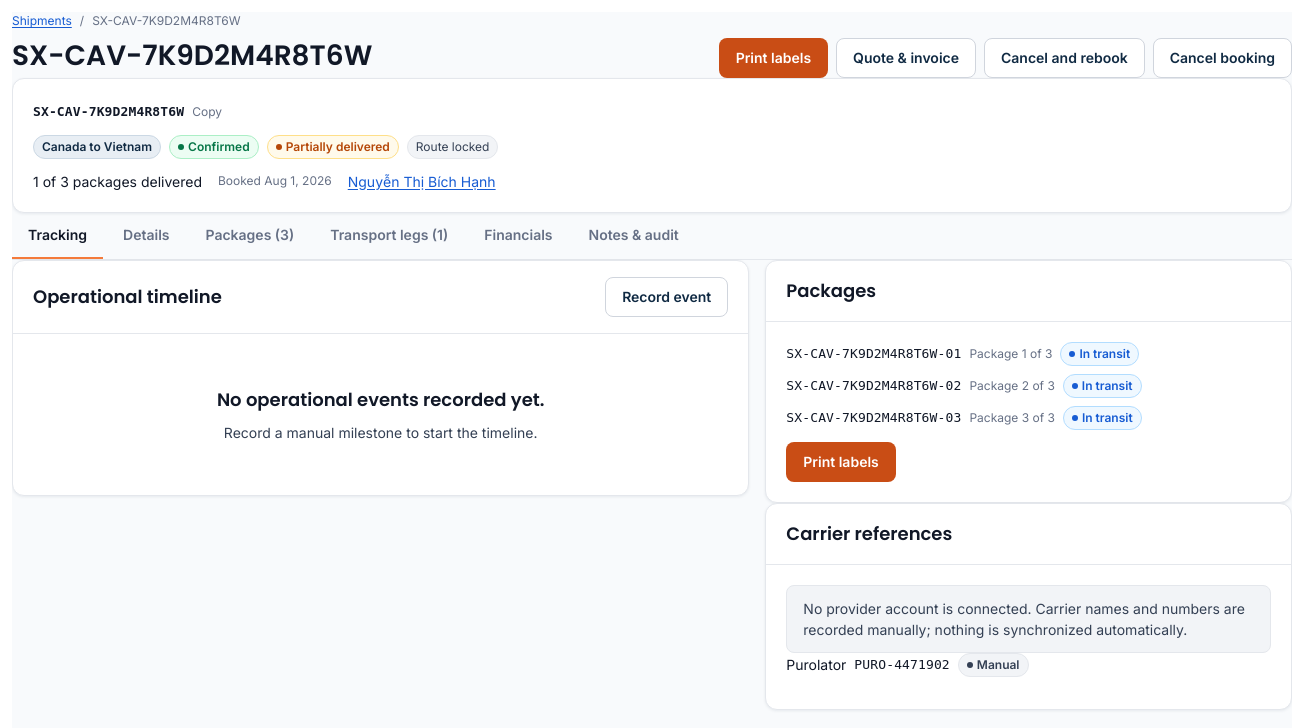
Scenario: ShipmentDetailPage › shows gross profit beside the cost, and Unknown when the API sends null
Click the tab "Financials" at (518, 236), box [468,212,569,258]
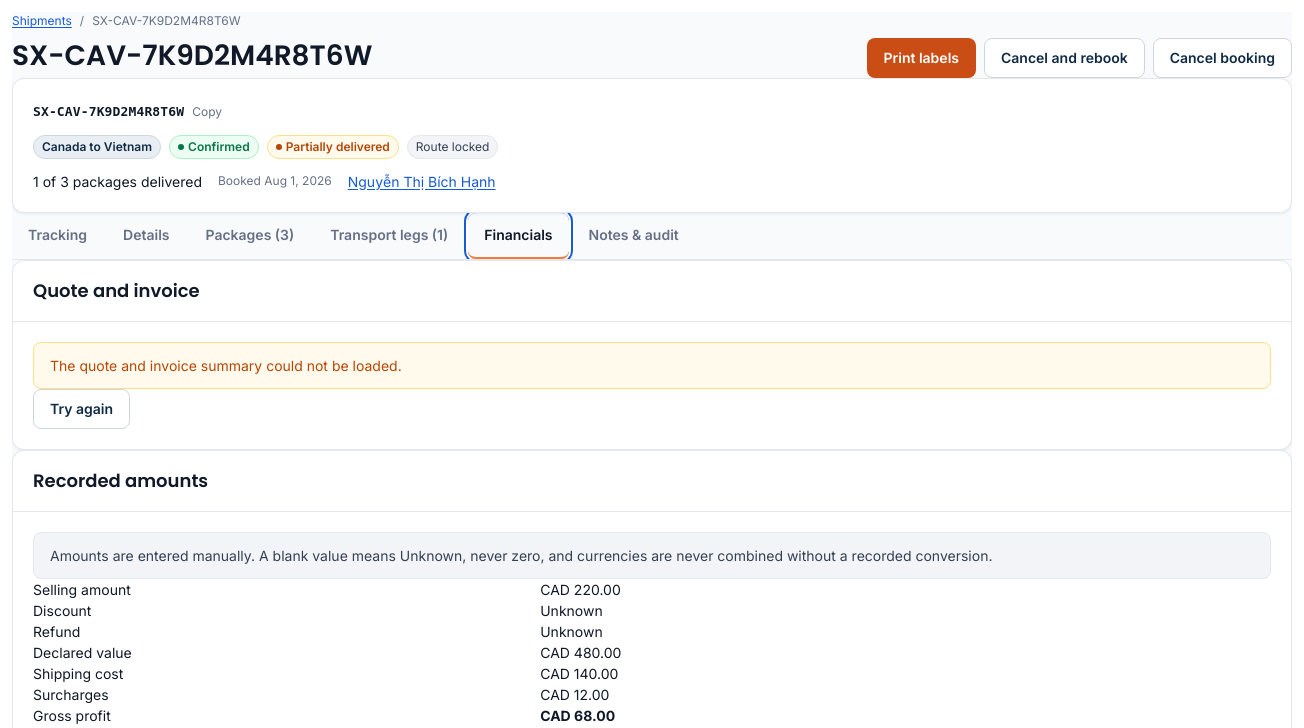
Check: the text "Gross profit" is shown, box [33,706,111,724]
Check: the text "CAD 68.00" is shown, box [540,706,615,724]
